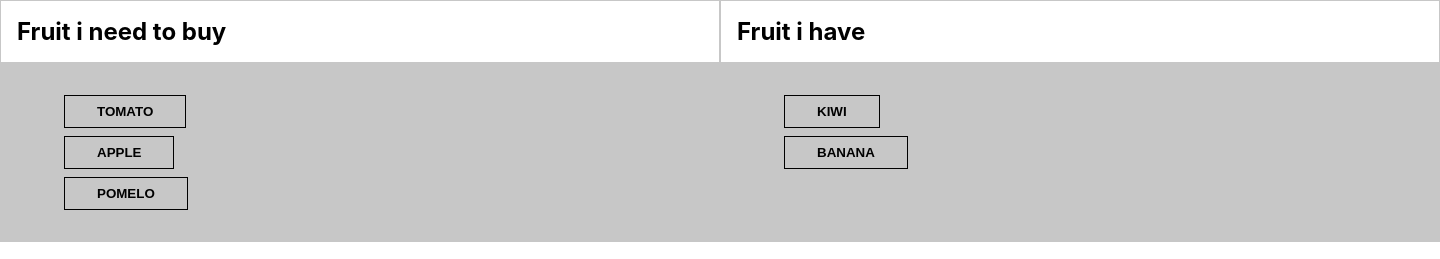
click on A list element remove it from list A and add to list B
Click the button "tomato": (125, 112) [64,95,186,128]
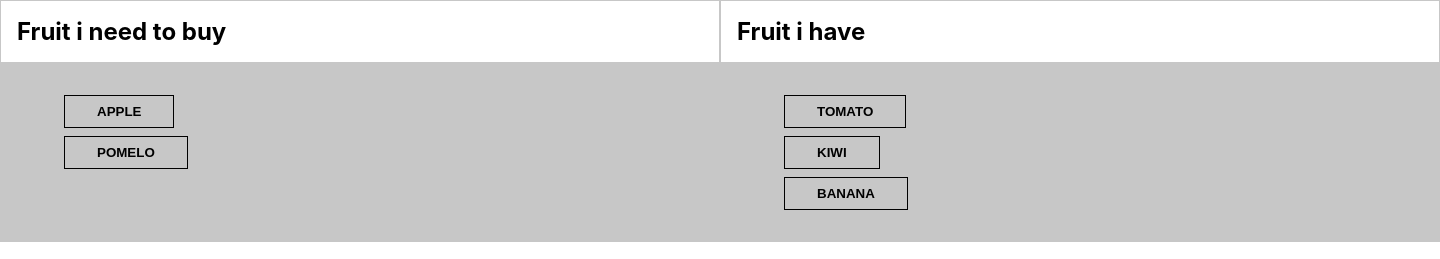
expect the list items read "apple", "pomelo", in this order: met, box [64,95,174,128]; [64,136,188,169]
expect the list items read "tomato", "kiwi", "banana", in this order: met, box [784,95,906,128]; [784,136,880,169]; [784,177,908,210]
